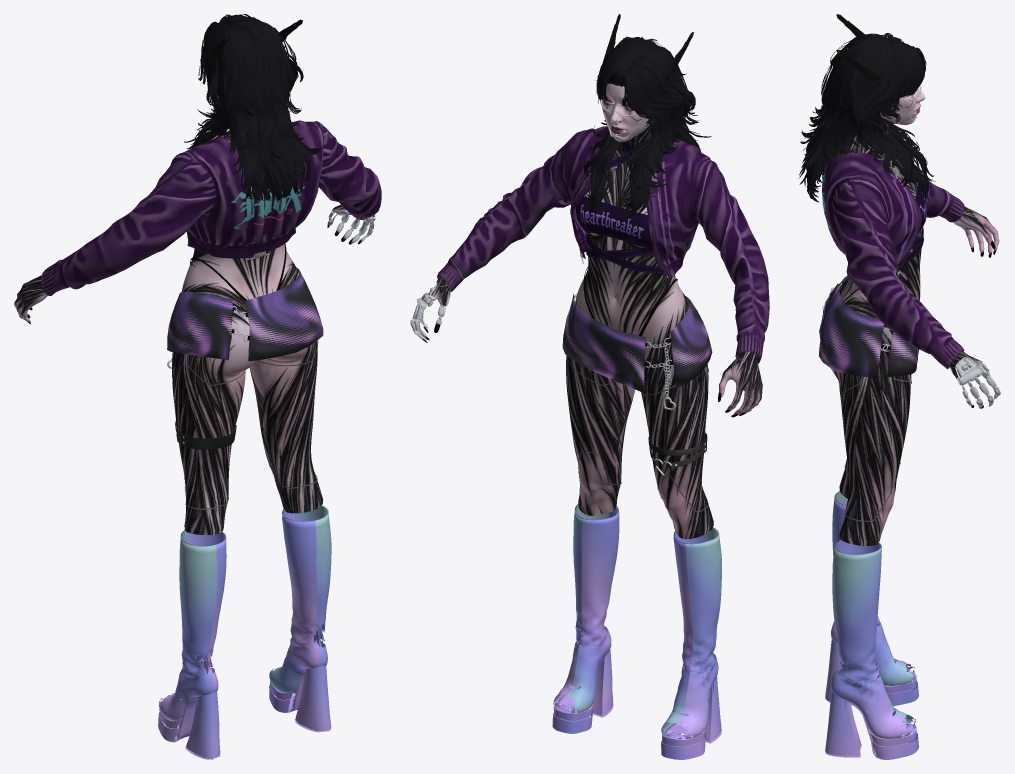
The model's file is vaessa-purple.glb.
3 renders of one model, left to right at view 1: azimuth 30°, elevation 25°; view 2: azimuth 150°, elevation 25°; view 3: azimuth 270°, elevation 25°, orthographic. The views are drawn at different scales.
Parts seen in each view (by area): view 1: vaessa_purple_short_jacket_0, vaessa_purple_bratz_boots_0, t0_body_4, hair_part_01_0, vaessa_purple_afterlife_skirt_0, hair_part_02_0, t0_body_2, t0_body_3, an0__arm_left_2, vaessa_purple_heart_garter_left_0, vaessa_songbird_right_black_steel_0; view 2: vaessa_purple_short_jacket_0, vaessa_purple_bratz_boots_0, t0_body_4, vaessa_purple_afterlife_skirt_0, hair_part_01_0, t0_body_2, vaessa_purple_heartbreaker_top_0, hair_part_02_0, hair_part_03_0, h0_head_0, an0__arm_left_2, t0_body_0 (+4 smaller); view 3: vaessa_purple_short_jacket_0, vaessa_purple_bratz_boots_0, t0_body_4, hair_part_01_0, vaessa_purple_afterlife_skirt_0, hair_part_02_0, hair_part_03_0, t0_body_2, vaessa_songbird_right_black_steel_0, h0_head_0, an0__arm_left_2, t0_body_3 (+2 smaller).
Boxes of the visible parts, x1=… form: vaessa_purple_short_jacket_0: x1=41, y1=120, x2=381, y2=295; vaessa_purple_bratz_boots_0: x1=158, y1=505, x2=331, y2=759; t0_body_4: x1=172, y1=341, x2=323, y2=532; hair_part_01_0: x1=197, y1=14, x2=320, y2=201; vaessa_purple_afterlife_skirt_0: x1=167, y1=267, x2=323, y2=361; hair_part_02_0: x1=191, y1=15, x2=323, y2=200; t0_body_2: x1=181, y1=245, x2=299, y2=305; t0_body_3: x1=184, y1=305, x2=316, y2=382; an0__arm_left_2: x1=14, y1=275, x2=47, y2=321; vaessa_purple_heart_garter_left_0: x1=175, y1=421, x2=236, y2=449; vaessa_songbird_right_black_steel_0: x1=328, y1=210, x2=375, y2=243; vaessa_purple_short_jacket_0: x1=437, y1=126, x2=769, y2=363; vaessa_purple_bratz_boots_0: x1=552, y1=504, x2=721, y2=759; t0_body_4: x1=566, y1=356, x2=713, y2=537; vaessa_purple_afterlife_skirt_0: x1=562, y1=294, x2=712, y2=392; hair_part_01_0: x1=591, y1=36, x2=711, y2=179; t0_body_2: x1=575, y1=259, x2=689, y2=345; vaessa_purple_heartbreaker_top_0: x1=576, y1=141, x2=661, y2=273; hair_part_02_0: x1=583, y1=37, x2=706, y2=219; hair_part_03_0: x1=581, y1=131, x2=665, y2=218; h0_head_0: x1=602, y1=83, x2=676, y2=155; an0__arm_left_2: x1=718, y1=351, x2=762, y2=414; t0_body_0: x1=584, y1=173, x2=662, y2=274; vaessa_purple_short_jacket_0: x1=822, y1=151, x2=964, y2=369; vaessa_purple_bratz_boots_0: x1=825, y1=491, x2=918, y2=759; t0_body_4: x1=839, y1=374, x2=911, y2=543; hair_part_01_0: x1=799, y1=33, x2=926, y2=202; vaessa_purple_afterlife_skirt_0: x1=819, y1=275, x2=919, y2=378; hair_part_02_0: x1=799, y1=33, x2=928, y2=205; hair_part_03_0: x1=865, y1=93, x2=935, y2=204; t0_body_2: x1=840, y1=248, x2=921, y2=332; vaessa_songbird_right_black_steel_0: x1=956, y1=358, x2=1000, y2=408; h0_head_0: x1=837, y1=87, x2=925, y2=158; an0__arm_left_2: x1=953, y1=206, x2=999, y2=253; t0_body_3: x1=831, y1=287, x2=892, y2=387.
Size of the model in its own units: 0.9766 by 1.89 by 0.5011.
Materials: 35 (31 with a texture image).
